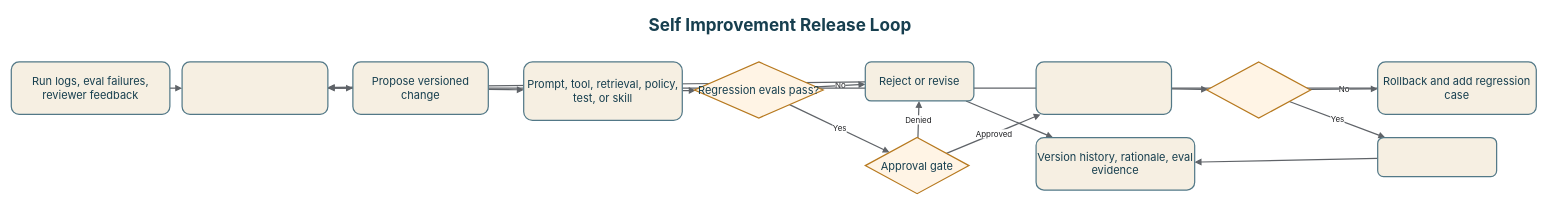
This 1547x204 diagram has some shape labels left out. The shapes that lost their labels are listed below. From the top down, each one's centre as x and y in pixels, then its label:
At pixel 254 88: "Mine improvement candidates".
At pixel 1103 88: "Canary or staged rollout".
At pixel 1258 89: "Metrics safe?".
At pixel 1437 157: "Promote new version".
